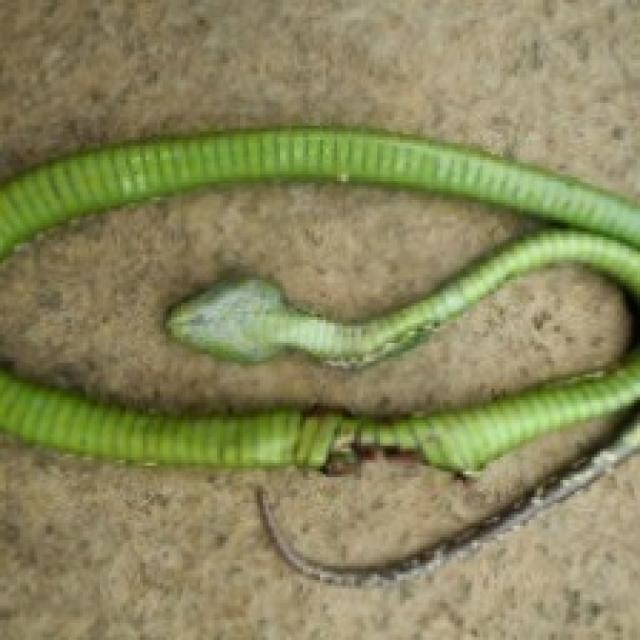philippine pitviper: (0, 129, 637, 360), (0, 331, 637, 477), (259, 412, 640, 587)
